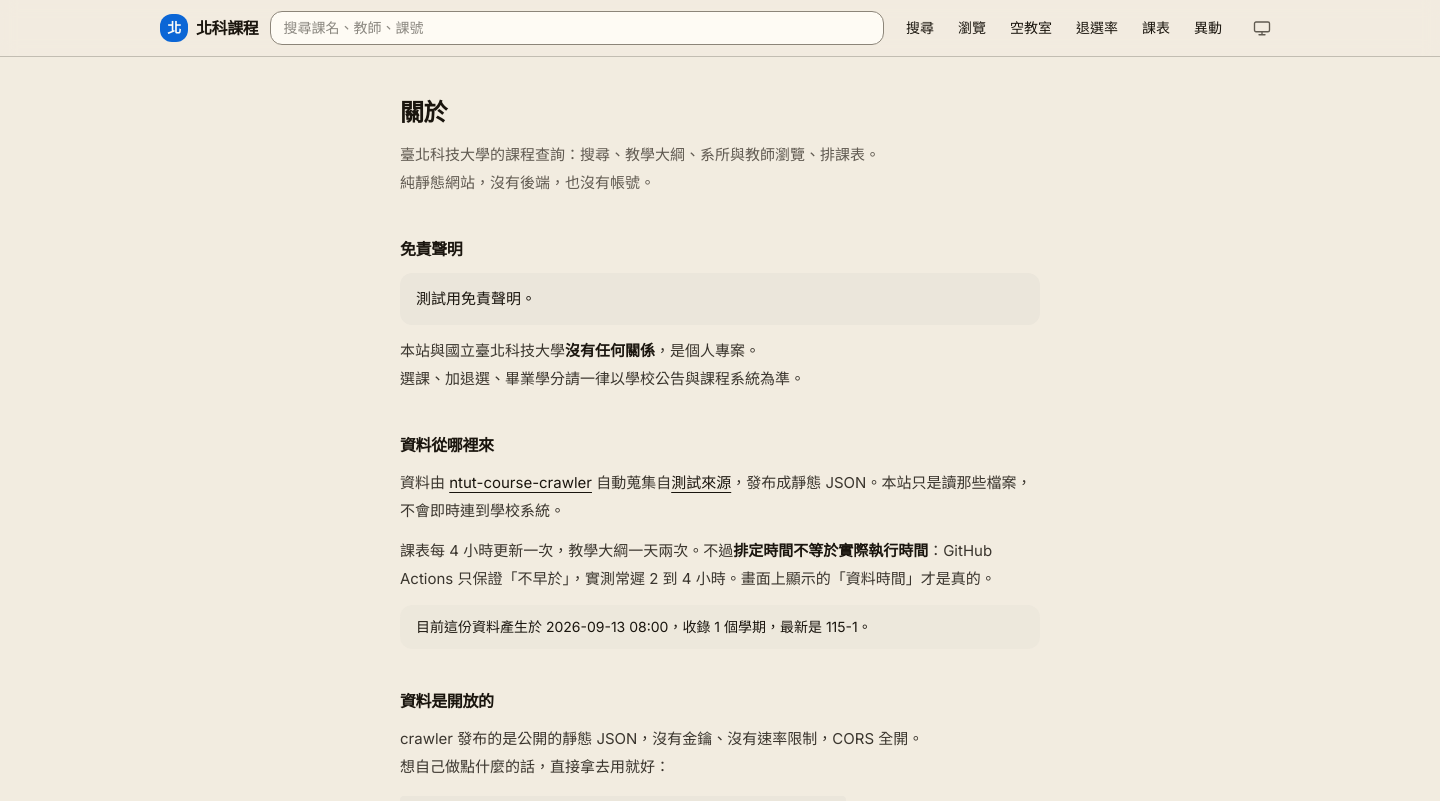
/search › 在別的頁面按 Enter 才導到搜尋頁,不即時抽換整頁
The image size is (1440, 801).
Type "英文" into the search field named "搜尋課程" at (577, 28), box x1=270 y1=11 x2=884 y2=45
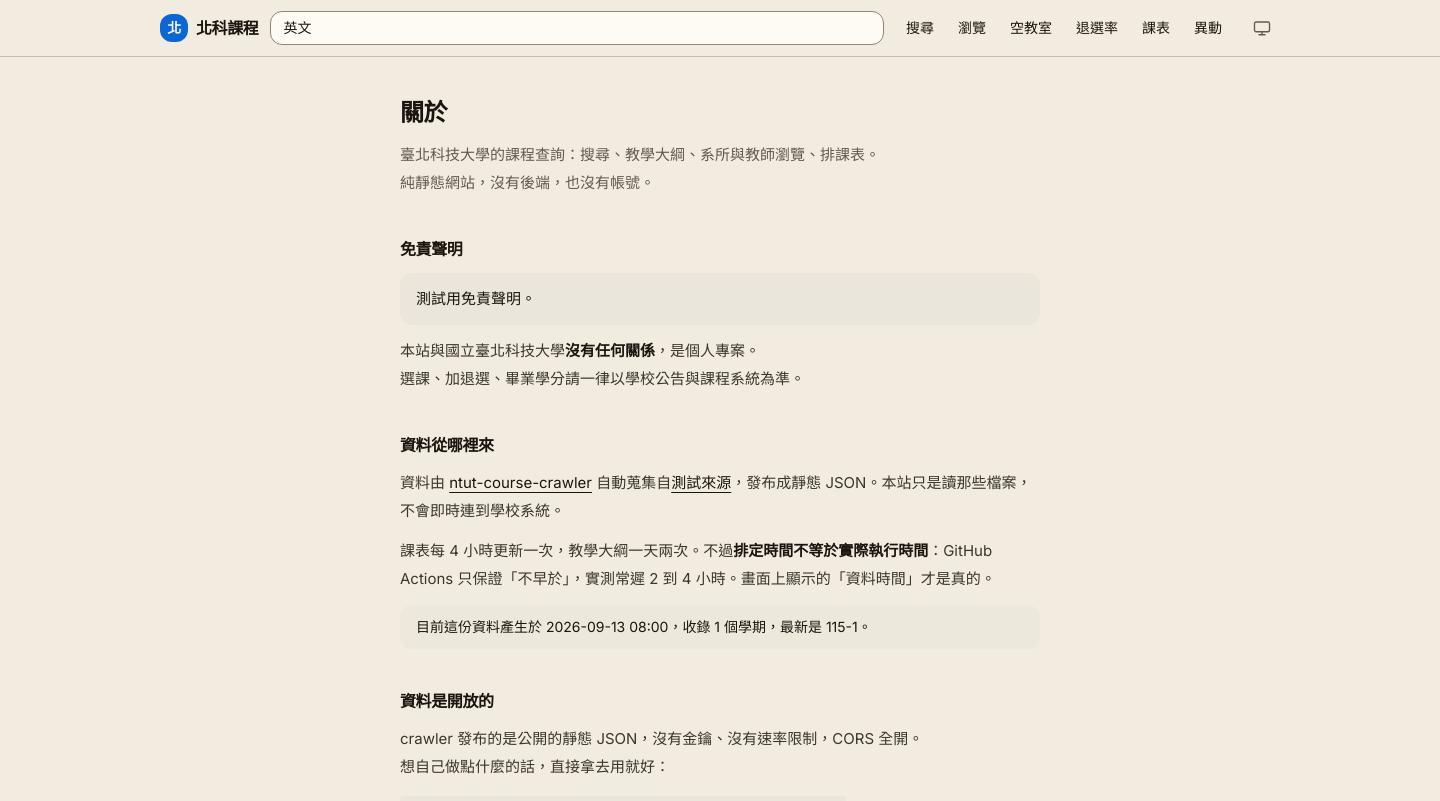
Expected: the text "門課" is not shown
Submit the form named "搜尋課程", box x1=270 y1=11 x2=884 y2=45
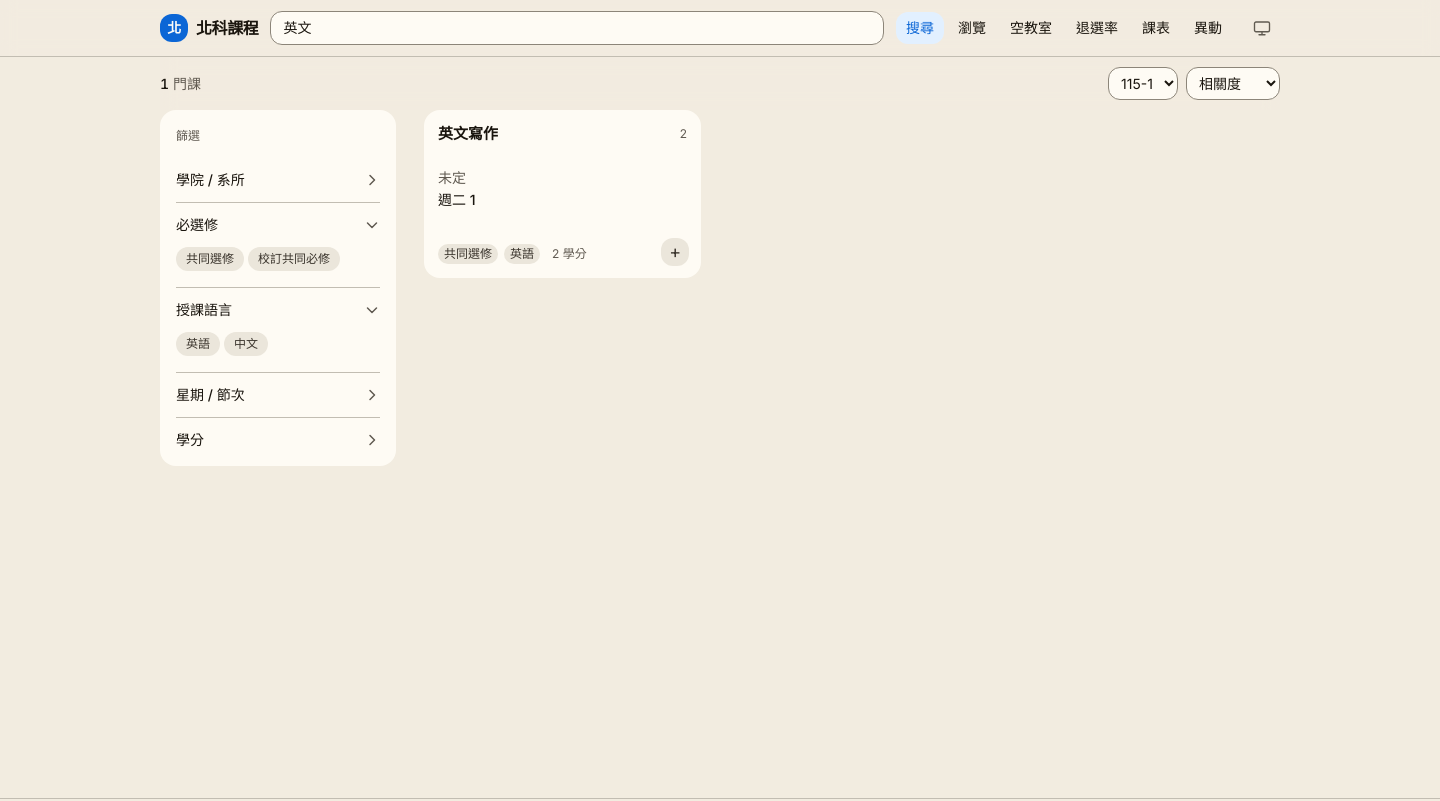
Expected: the element showing "1 門課" is shown, x1=160 y1=74 x2=201 y2=92
